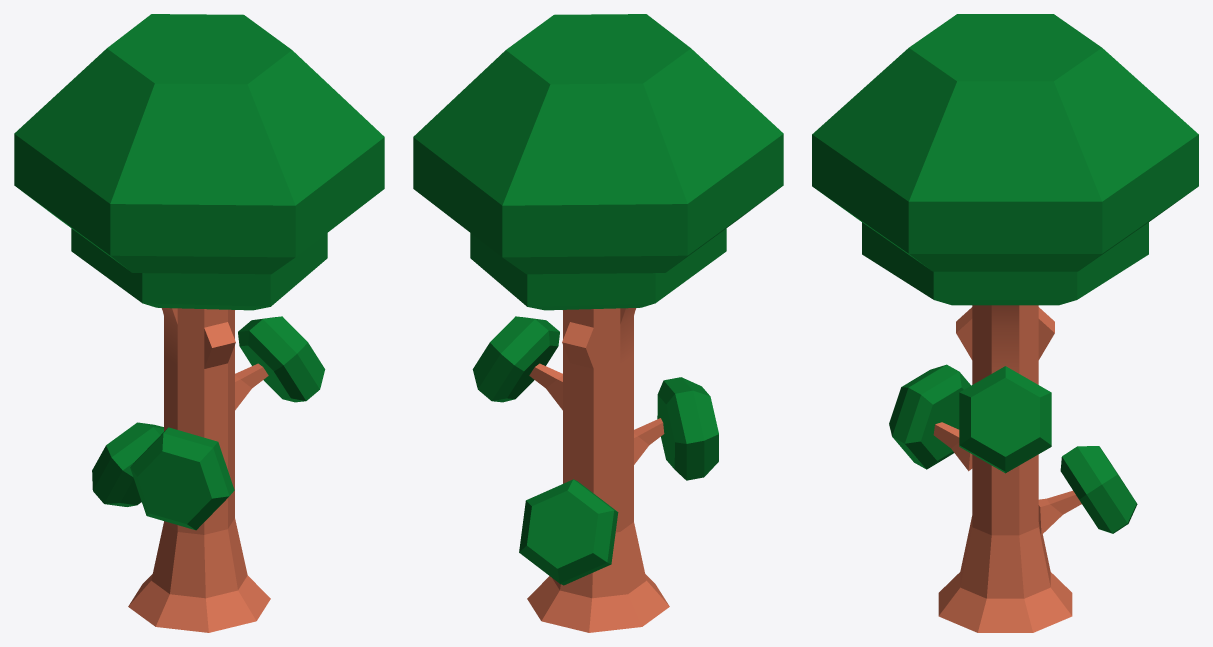
The model's file is LaumbaumGross3.fbx.
3 renders of one model, left to right at view 1: azimuth 30°, elevation 25°; view 2: azimuth 150°, elevation 25°; view 3: azimuth 270°, elevation 25°, orthographic.
Parts seen in each view (by area): view 1: mergedBlocks; view 2: mergedBlocks; view 3: mergedBlocks.
Boxes of the visible parts, left/top/right/bottom form: mergedBlocks: left=14, top=14, right=384, bottom=632; mergedBlocks: left=413, top=14, right=783, bottom=632; mergedBlocks: left=812, top=14, right=1198, bottom=632.
Size of the model in its own units: 173 by 334 by 210.
